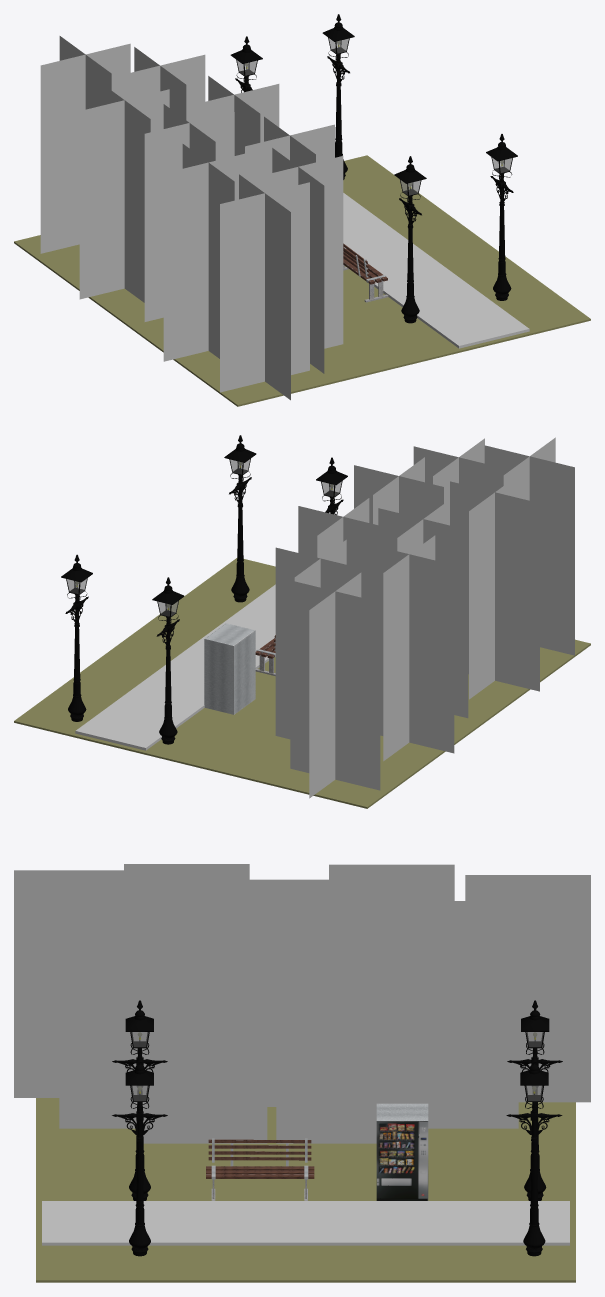
File: teste01.fbx
3 views of the same model, one above another, from view 1: azimuth 30°, elevation 25°; view 2: azimuth 150°, elevation 25°; view 3: azimuth 270°, elevation 25° (orthographic). The views are drawn at different scales.
Parts seen in each view (by area): view 1: Chão_de_grama, pPlane10, pPlane8, pPlane4, pPlane9, Caminho, pPlane3, pPlane5, Tree02:pPlane3, pPlane6, pPlane7, rv_Lamp_post4:Lp_3 (+4 smaller); view 2: Chão_de_grama, pPlane9, pPlane8, pPlane4, pPlane10, Caminho, pPlane5, Tree02:pPlane3, polySurface1, pPlane6, pPlane7, pPlane3 (+5 smaller); view 3: Chão_de_grama, pPlane7, pPlane6, Tree02:pPlane3, Caminho, pPlane3, pPlane9, pPlane10, pPlane5, polySurface1, pPlane4, pPlane8 (+5 smaller).
Boxes of the visible parts, <box> form: Chão_de_grama: <box>14,155,590,406</box>; pPlane10: <box>220,174,309,400</box>; pPlane8: <box>79,81,169,302</box>; pPlane4: <box>163,144,253,361</box>; pPlane9: <box>40,36,130,253</box>; Caminho: <box>343,193,529,348</box>; pPlane3: <box>253,148,343,373</box>; pPlane5: <box>144,104,234,321</box>; Tree02:pPlane3: <box>115,47,205,122</box>; pPlane6: <box>189,76,279,155</box>; pPlane7: <box>245,116,334,177</box>; rv_Lamp_post4:Lp_3: <box>394,156,426,323</box>; Chão_de_grama: <box>14,558,590,808</box>; pPlane9: <box>290,572,380,798</box>; pPlane8: <box>364,535,454,761</box>; pPlane4: <box>450,473,539,699</box>; pPlane10: <box>484,437,574,655</box>; Caminho: <box>75,584,275,750</box>; pPlane5: <box>378,500,468,718</box>; Tree02:pPlane3: <box>275,539,365,739</box>; polySurface1: <box>204,623,255,714</box>; pPlane6: <box>298,498,388,568</box>; pPlane7: <box>354,457,443,524</box>; pPlane3: <box>413,438,503,525</box>; Chão_de_grama: <box>36,1098,575,1282</box>; pPlane7: <box>141,916,267,1143</box>; pPlane6: <box>276,916,401,1143</box>; Tree02:pPlane3: <box>393,901,518,1128</box>; Caminho: <box>42,1201,569,1245</box>; pPlane3: <box>59,901,184,1128</box>; pPlane9: <box>465,875,590,1102</box>; pPlane10: <box>14,870,139,1097</box>; pPlane5: <box>233,879,359,1106</box>; polySurface1: <box>376,1103,428,1200</box>; pPlane4: <box>124,864,249,916</box>; pPlane8: <box>329,864,454,916</box>.
Bounding box in the file's own units: 49.12 × 24.5 × 55.7.
